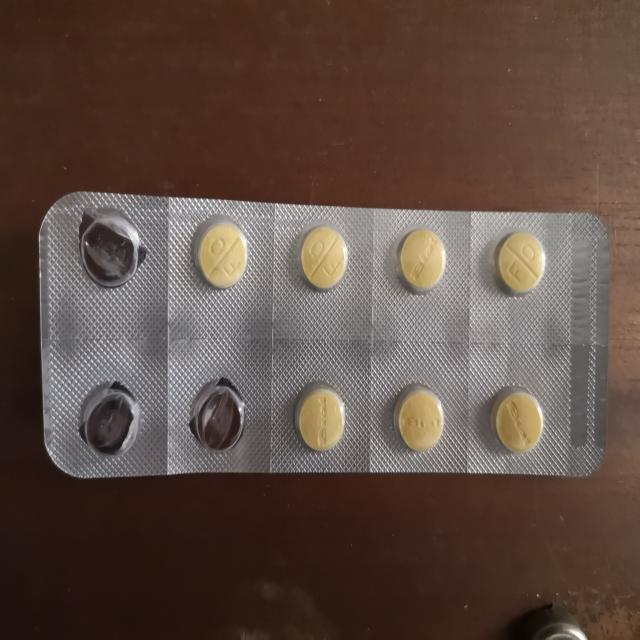Empty: (72, 206, 148, 290), (74, 375, 142, 459), (184, 375, 252, 456)
Pill: (185, 212, 251, 297), (288, 379, 352, 458), (392, 220, 453, 299), (389, 378, 450, 457), (486, 383, 548, 458), (488, 223, 549, 299), (291, 222, 351, 292)
